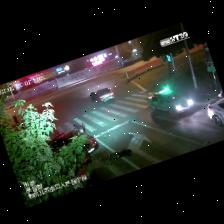person: (99, 149, 131, 162)
